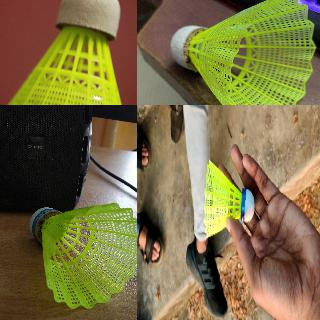shuttlecock: (170, 0, 316, 104), (0, 0, 131, 104), (30, 203, 136, 310), (204, 160, 254, 238)
